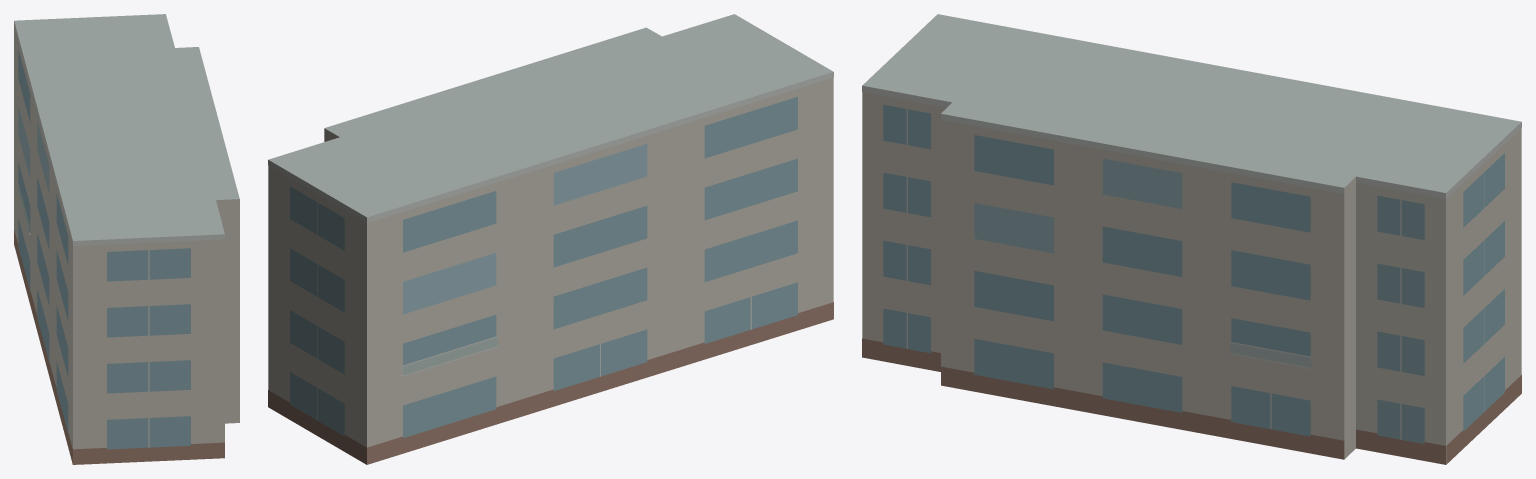
File: survey-upis-32533033.glb
3 renders of one model, left to right at view 1: azimuth 30°, elevation 25°; view 2: azimuth 150°, elevation 25°; view 3: azimuth 270°, elevation 25°, orthographic. The views are drawn at different scales.
Parts seen in each view (by area): view 1: survey-upis-32533033.tmp; view 2: survey-upis-32533033.tmp; view 3: survey-upis-32533033.tmp.
Boxes of the visible parts, x1,y1,x2,y2 form: survey-upis-32533033.tmp: (14,14,239,464); survey-upis-32533033.tmp: (268,14,833,464); survey-upis-32533033.tmp: (862,14,1521,464).
Bounding box in the file's own units: 15.06 × 10.65 × 23.43.
